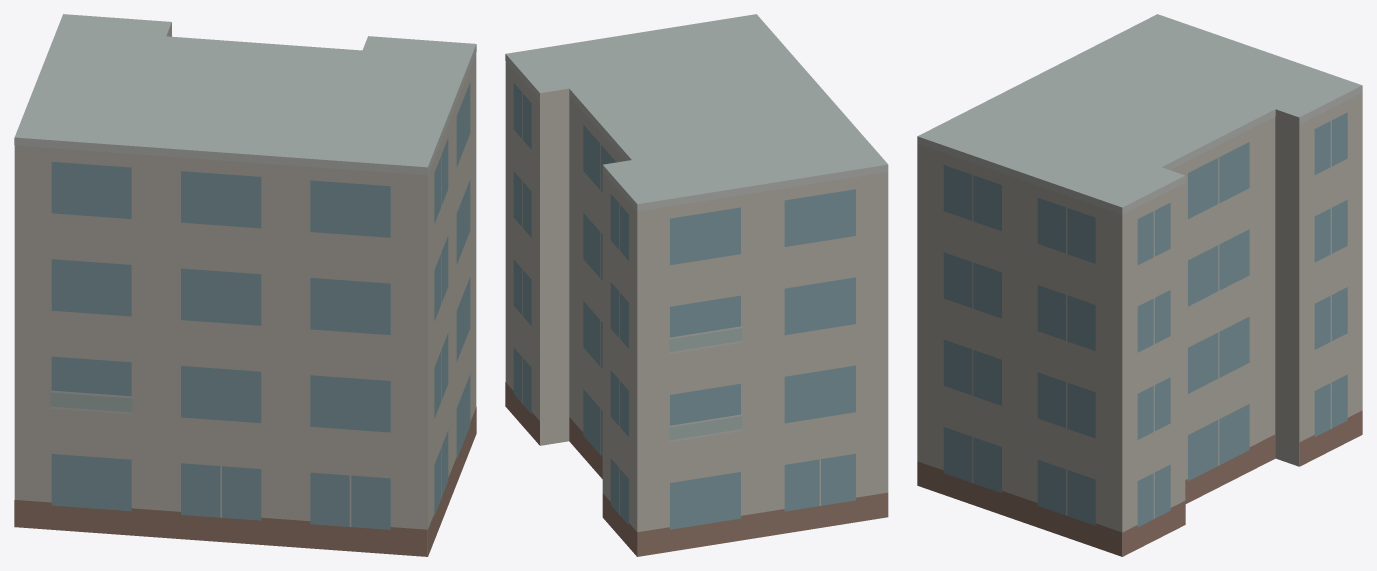
Rendered from survey-upis-33044009.glb.
3 views of the same model, side by side, from view 1: azimuth 30°, elevation 25°; view 2: azimuth 150°, elevation 25°; view 3: azimuth 270°, elevation 25° (orthographic). The views are drawn at different scales.
Parts seen in each view (by area): view 1: survey-upis-33044009.tmp; view 2: survey-upis-33044009.tmp; view 3: survey-upis-33044009.tmp.
Boxes of the visible parts, <box> form: survey-upis-33044009.tmp: <box>14,14,476,556</box>; survey-upis-33044009.tmp: <box>505,14,888,556</box>; survey-upis-33044009.tmp: <box>917,14,1362,556</box>.
Bounding box in the file's own units: 14.15 × 11.9 × 13.75.
